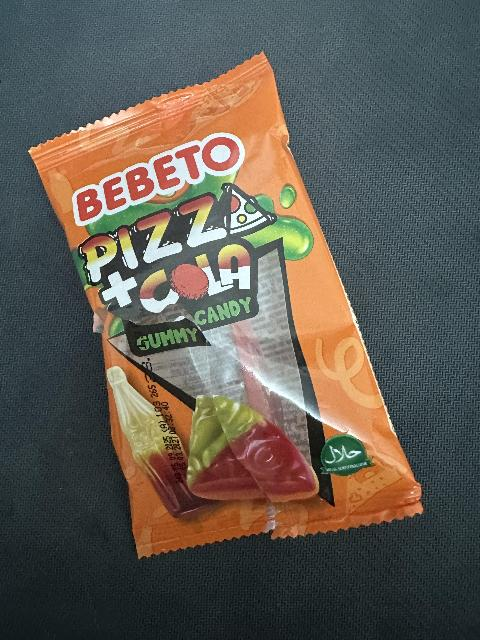Plastik: (27, 59, 427, 543)
